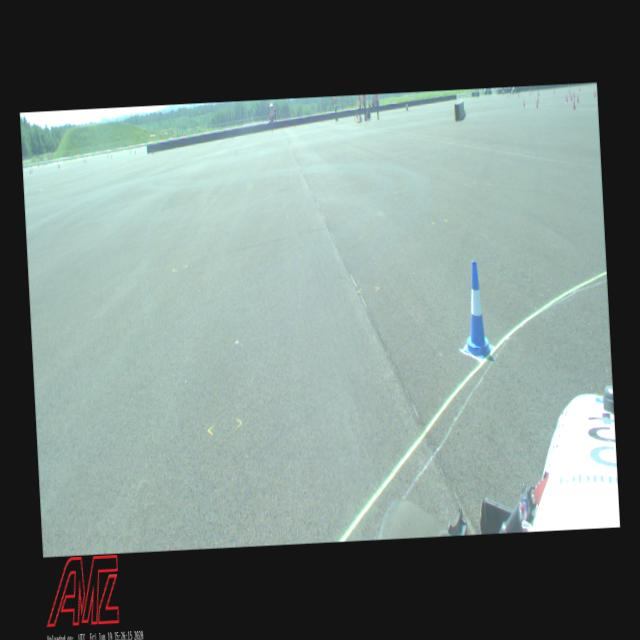blue_cone: (460, 260, 492, 359)
